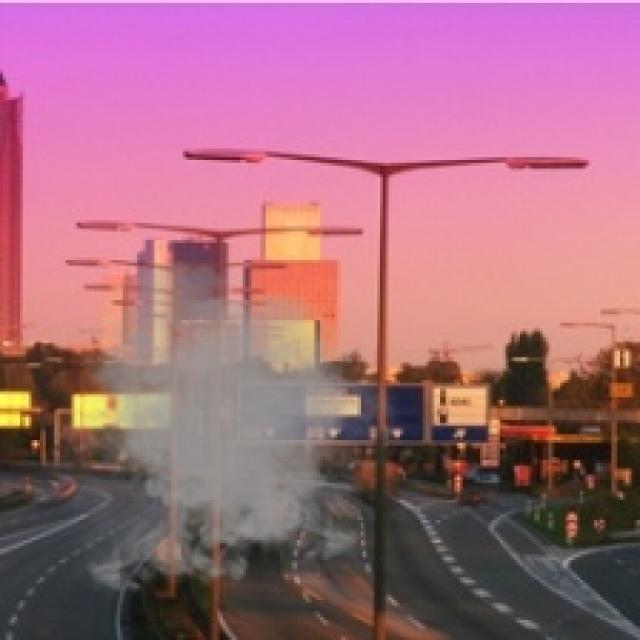Smoke: (32, 254, 414, 603)
